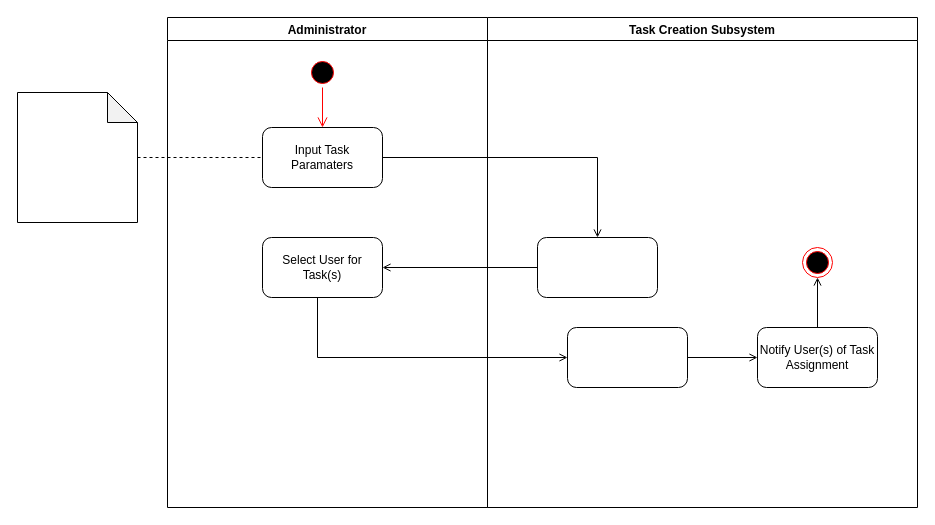
The diagram is 935 pixels wide and 525 high, and some of its shapes have lost their labels. The shapes that lost their labels are listed below. From the top down, each one's centre as x and y in pixels, then its label:
At (77,157): "Parameters: Task Name Task Requirements Stock Needed".
At (597,267): "Recommend Suitable User(s)".
At (627,357): "Add User(s) to Task".
